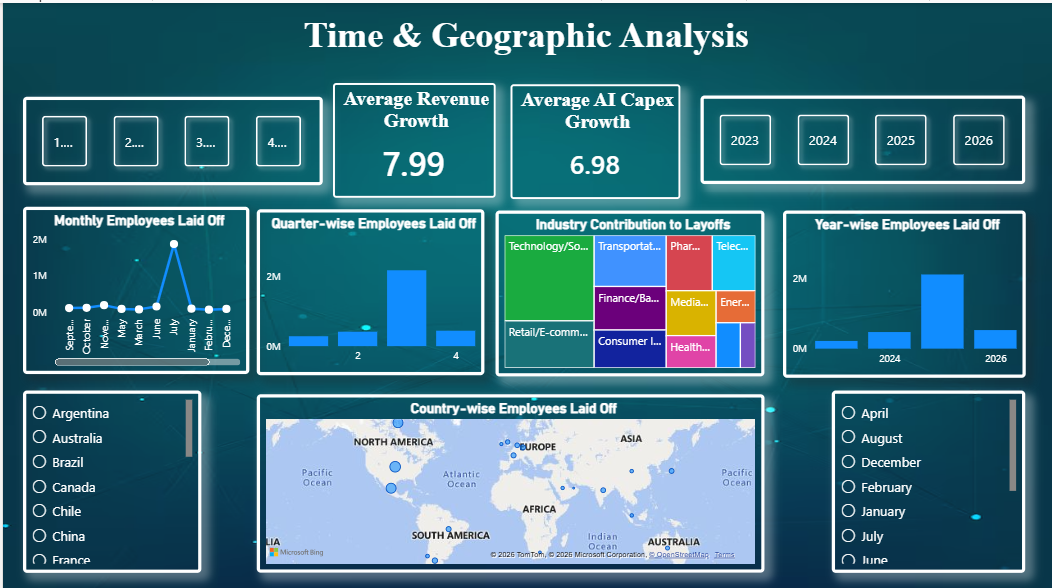

The page's visual inventory and layout, read from the dashboard file:
{"tool":"powerbi","page":{"name":"Time & Geographic Analysis","canvas":[1280,720],"ordinal":3},"visuals":[{"type":"textbox","title":"Time & Geographic Analysis","box":[8.2,13.7,1261.1,98.8],"z":0},{"type":"cardVisual","title":"Average Revenue Growth","fields":{"Data":["ai_job_layoffs_db ai_job_layoffs_cleaned.Average Revenue Growth"]},"box":[402.4,97.5,198.1,140.2],"z":1000},{"type":"cardVisual","title":"Average AI Capex Growth","fields":{"Data":["ai_job_layoffs_db ai_job_layoffs_cleaned.Average Workforce Cut %"]},"box":[618.8,99.1,207.3,140.2],"z":2000},{"type":"lineChart","title":"Monthly Employees Laid Off","fields":{"Category":["ai_job_layoffs_db ai_job_layoffs_cleaned.month"],"Y":["Sum(ai_job_layoffs_db ai_job_layoffs_cleaned.headcount_cut)"]},"box":[24.4,248.4,275.9,204.2],"z":3000},{"type":"listSlicer","fields":{"Values":["ai_job_layoffs_db ai_job_layoffs_cleaned.country"]},"box":[24.4,472.5,218,222.5],"z":4000},{"type":"clusteredColumnChart","title":"Quarter-wise Employees Laid Off","fields":{"Y":["Sum(ai_job_layoffs_db ai_job_layoffs_cleaned.headcount_cut)"],"Category":["ai_job_layoffs_db ai_job_layoffs_cleaned.quarter"]},"box":[309.4,251.5,277.4,202.7],"z":5000},{"type":"clusteredColumnChart","title":"Year-wise Employees Laid Off","fields":{"Category":["ai_job_layoffs_db ai_job_layoffs_cleaned.year"],"Y":["Sum(ai_job_layoffs_db ai_job_layoffs_cleaned.headcount_cut)"]},"box":[951.1,253,295.7,204.2],"z":6000},{"type":"map","title":"Country-wise Employees Laid Off","fields":{"Category":["ai_job_layoffs_db ai_job_layoffs_cleaned.country"],"Size":["Sum(ai_job_layoffs_db ai_job_layoffs_cleaned.headcount_cut)"]},"box":[309.4,477.1,618.8,218],"z":7000},{"type":"treemap","title":"Industry Contribution to Layoffs","fields":{"Group":["ai_job_layoffs_db ai_job_layoffs_cleaned.industry"],"Values":["Sum(ai_job_layoffs_db ai_job_layoffs_cleaned.headcount_cut)"]},"box":[600.5,253,327.7,202.7],"z":8000},{"type":"advancedSlicerVisual","title":"Select Year","fields":{"Values":["ai_job_layoffs_db ai_job_layoffs_cleaned.year"]},"box":[850.5,112.8,396.3,108.2],"z":9000},{"type":"listSlicer","fields":{"Values":["ai_job_layoffs_db ai_job_layoffs_cleaned.month"]},"box":[1010.5,472.5,236.2,222.5],"z":10000},{"type":"advancedSlicerVisual","title":"Select Year","fields":{"Values":["ai_job_layoffs_db ai_job_layoffs_cleaned.quarter"]},"box":[24.4,114.3,365.8,108.2],"z":11000}]}

Visuals, with their boxes in screenshot pixels (x1, y1, x2, y2), scaled from the page's 1280x720 canvas onto the 1052x588 screenshot:
"Time & Geographic Analysis" textbox: bbox=[7, 11, 1043, 92]
"Average Revenue Growth" cardVisual: bbox=[331, 80, 494, 194]
"Average AI Capex Growth" cardVisual: bbox=[509, 81, 679, 195]
"Monthly Employees Laid Off" lineChart: bbox=[20, 203, 247, 370]
listSlicer - ai_job_layoffs_db ai_job_layoffs_cleaned.country: bbox=[20, 386, 199, 568]
"Quarter-wise Employees Laid Off" clusteredColumnChart: bbox=[254, 205, 482, 371]
"Year-wise Employees Laid Off" clusteredColumnChart: bbox=[782, 207, 1025, 373]
"Country-wise Employees Laid Off" map: bbox=[254, 390, 763, 568]
"Industry Contribution to Layoffs" treemap: bbox=[494, 207, 763, 372]
"Select Year" advancedSlicerVisual: bbox=[699, 92, 1025, 180]
listSlicer - ai_job_layoffs_db ai_job_layoffs_cleaned.month: bbox=[831, 386, 1025, 568]
"Select Year" advancedSlicerVisual: bbox=[20, 93, 321, 182]
